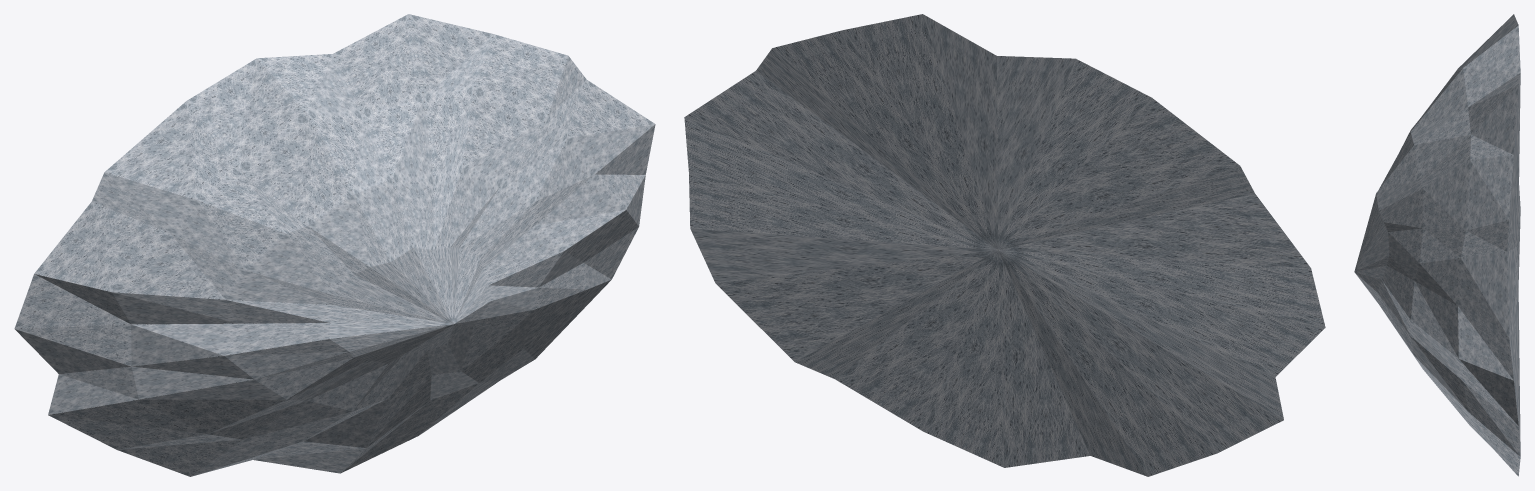
The model's file is rv_snow_drift.obj.
3 renders of one model, left to right at view 1: azimuth 30°, elevation 25°; view 2: azimuth 150°, elevation 25°; view 3: azimuth 270°, elevation 25°, orthographic. The views are drawn at different scales.
Visible parts, largest first — view 1: rv_snow_drift; view 2: rv_snow_drift; view 3: rv_snow_drift.
Part boxes in pixels (left/top/right/bottom): rv_snow_drift: left=14, top=14, right=655, bottom=476; rv_snow_drift: left=684, top=14, right=1325, bottom=476; rv_snow_drift: left=1354, top=14, right=1520, bottom=476.
Size of the model in its own units: 7.85 by 5.13 by 1.98.
Materials: 1 (1 with a texture image).
